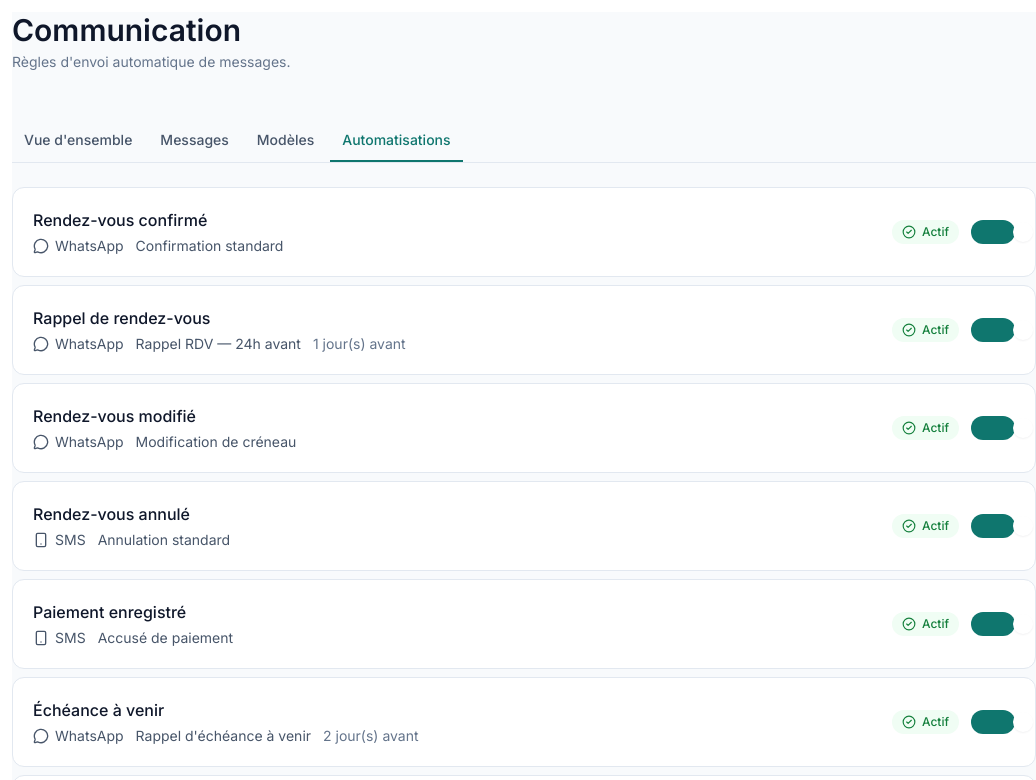
Test: AutomationsPage › toggles a rule active/inactive locally, without persistence
Click the switch named "Activer ou désactiver : Rendez-vous confirmé": (993, 232) [971,220,1015,244]
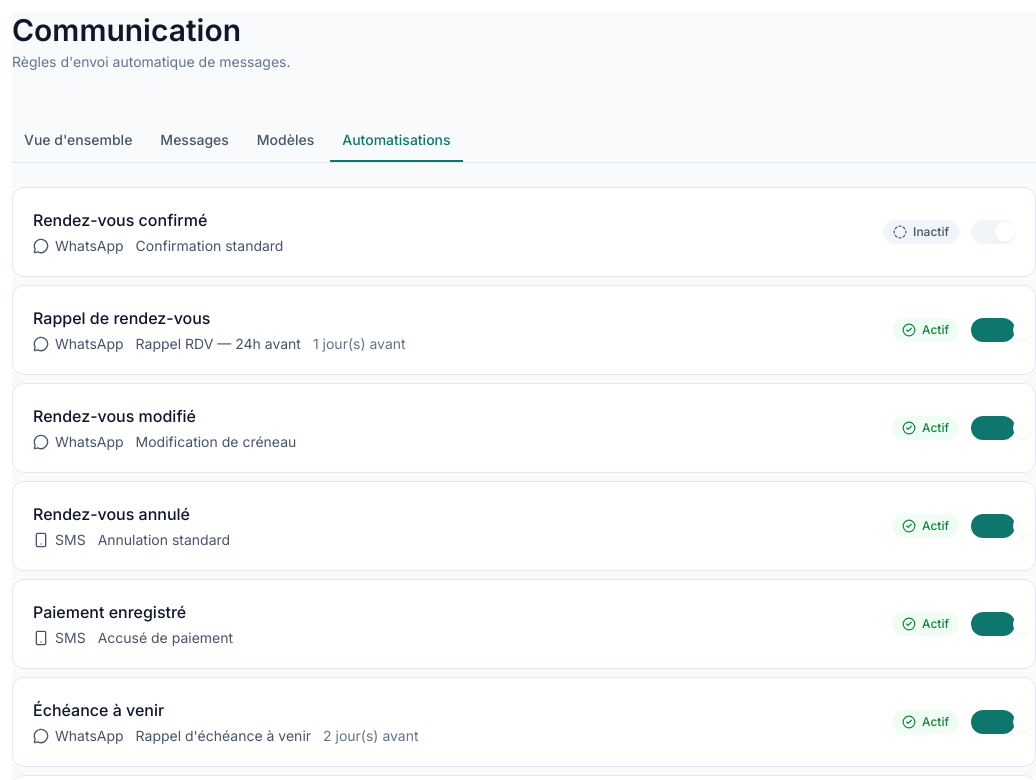
expect the text "Inactif" is shown: met, box [883,220,959,244]
